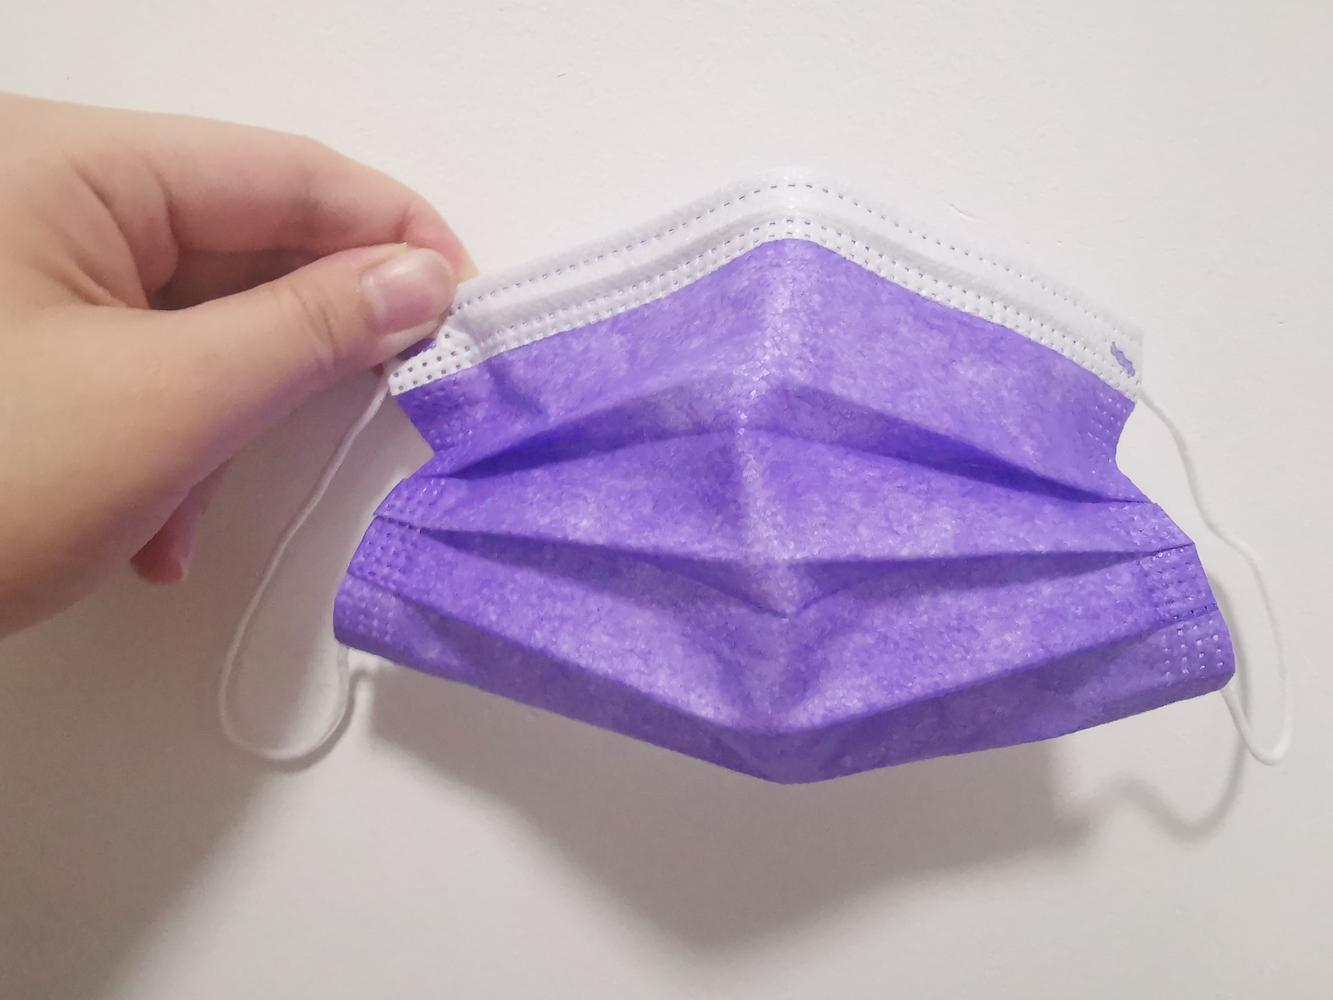Face Mask: (338, 175, 1238, 779)
Undefined Object: (2, 45, 478, 611)
